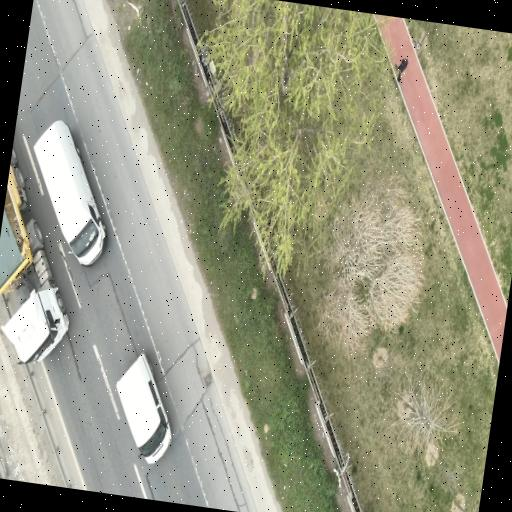car: (35, 120, 105, 265), (117, 352, 171, 463)
person: (396, 59, 408, 82)
truck: (0, 146, 69, 362)
